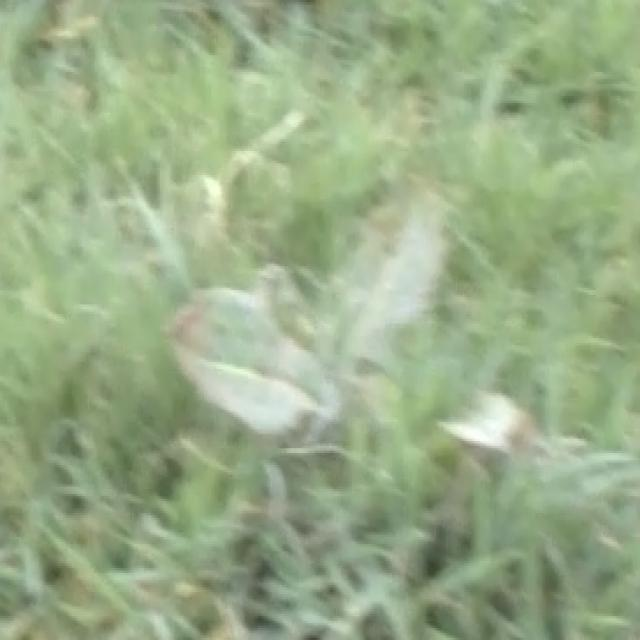organic waste: (172, 185, 488, 520)
